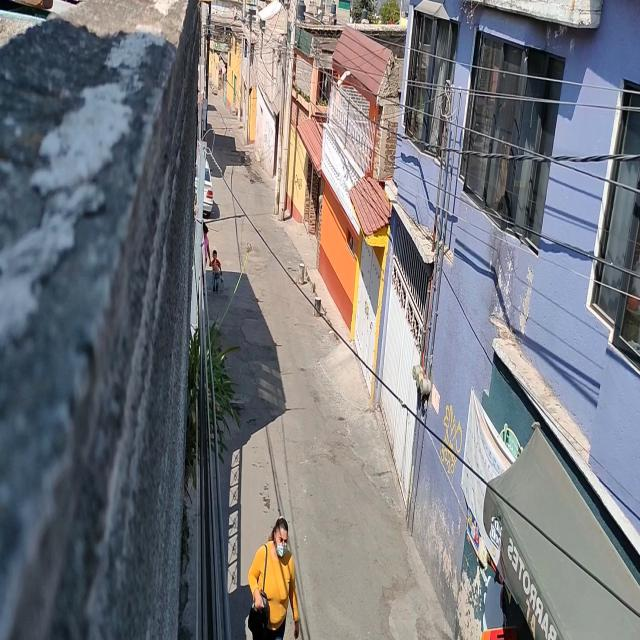adult: (248, 513, 302, 640)
